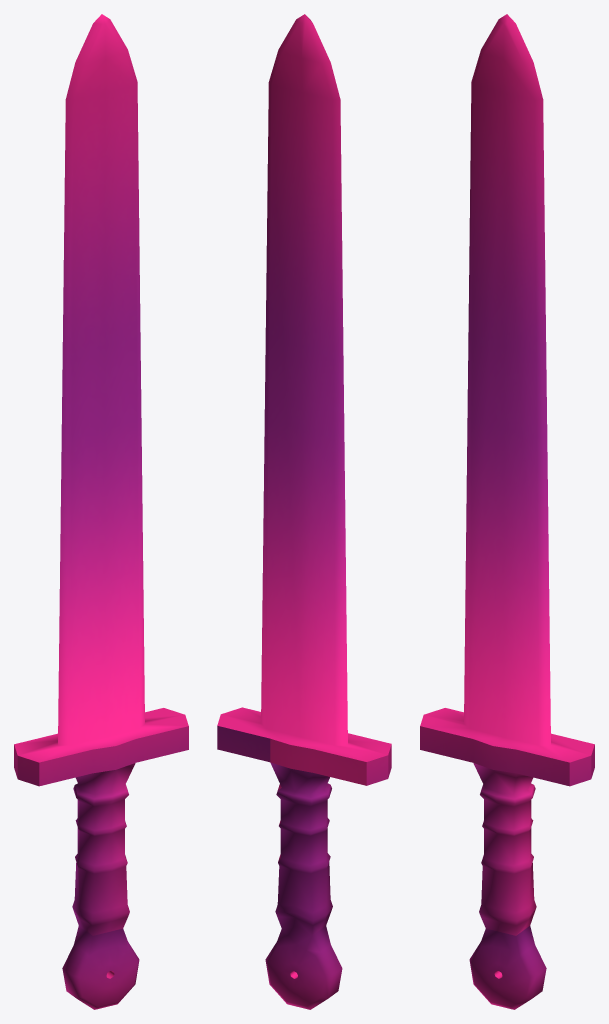
Rendered from quaternius-rpg--dagger.glb.
The picture shows the model from 3 angles, left to right: view 1: azimuth 30°, elevation 25°; view 2: azimuth 150°, elevation 25°; view 3: azimuth 330°, elevation 25°; orthographic projection.
Visible parts, largest first — view 1: Sword_Cylinder; view 2: Sword_Cylinder; view 3: Sword_Cylinder.
Boxes of the visible parts, bbox=[...] form: Sword_Cylinder: bbox=[14, 14, 188, 1009]; Sword_Cylinder: bbox=[217, 14, 391, 1009]; Sword_Cylinder: bbox=[420, 14, 594, 1009].
Size of the model in its own units: 0.5518 by 3.11 by 0.1635.
1 material, 1 textured.
